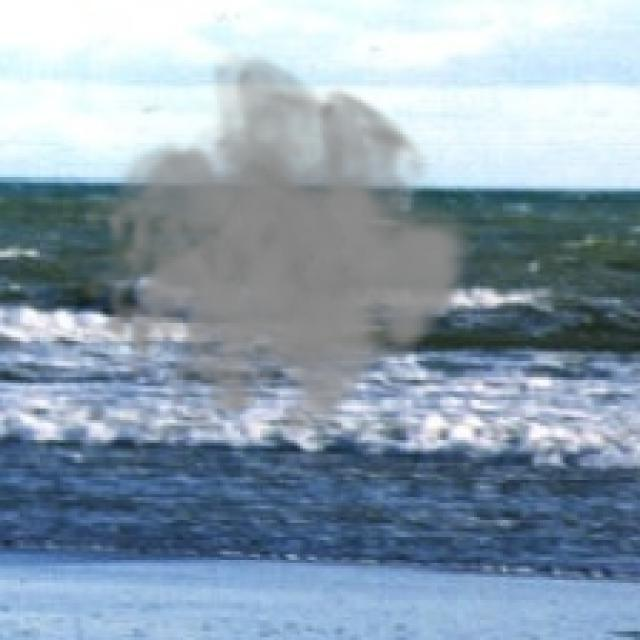smoke: (80, 49, 477, 454)
